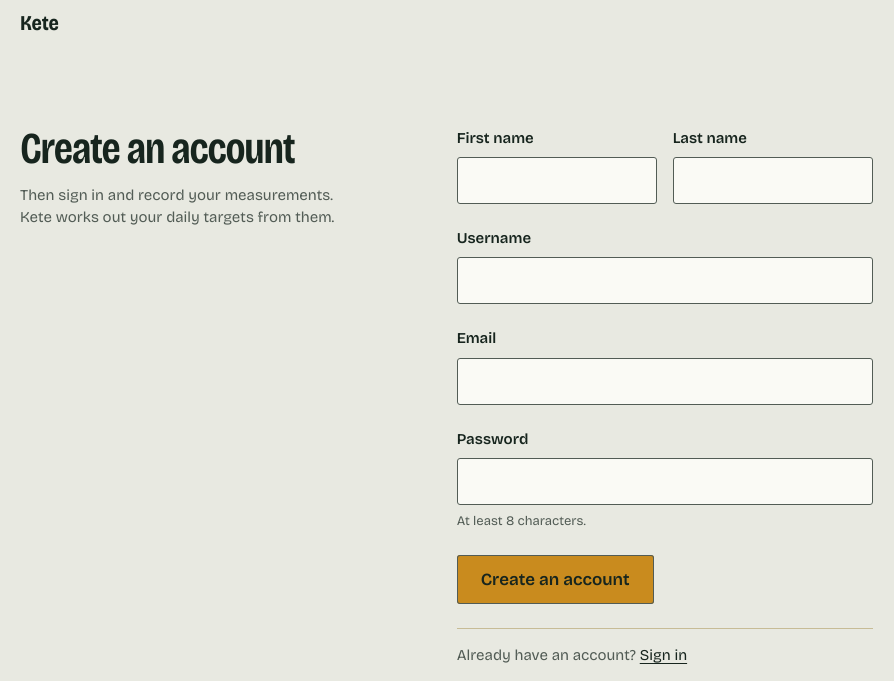
Test case: the sentence a new account lands on › arrives in a status region that was on the page before it
In the field labelled "First name": x=557, y=180 [457,157,657,204], type "Aroha"
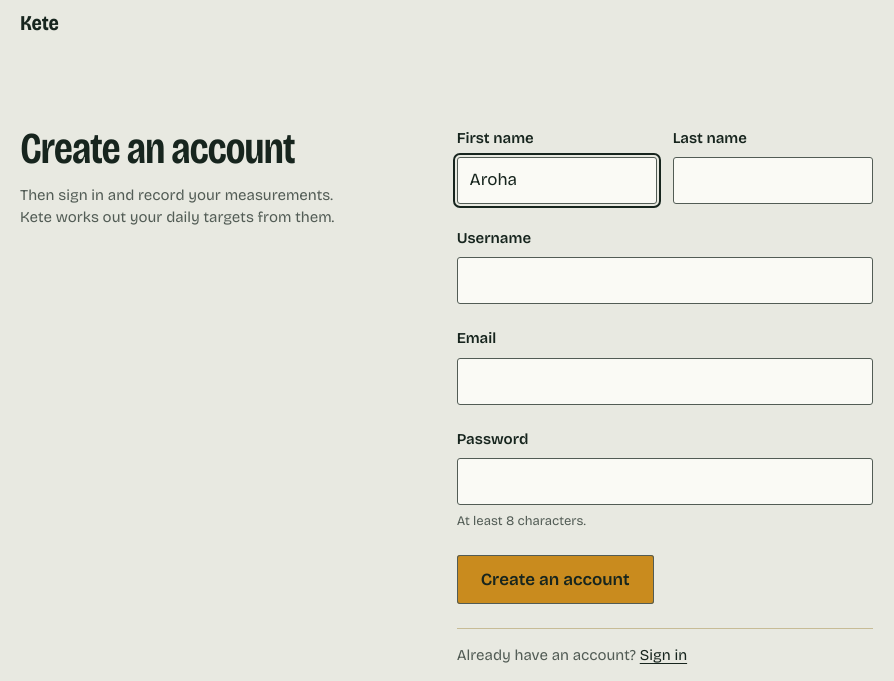
In the field labelled "Last name": x=773, y=180 [673,157,873,204], type "Tane"
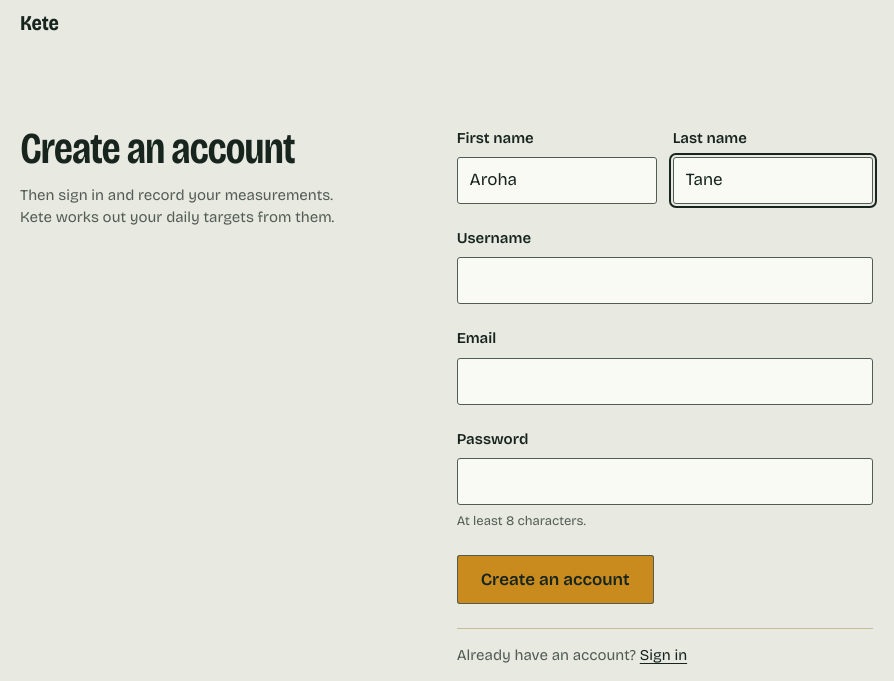
In the field labelled "Username": x=665, y=281 [457,257,873,304], type "aroha"
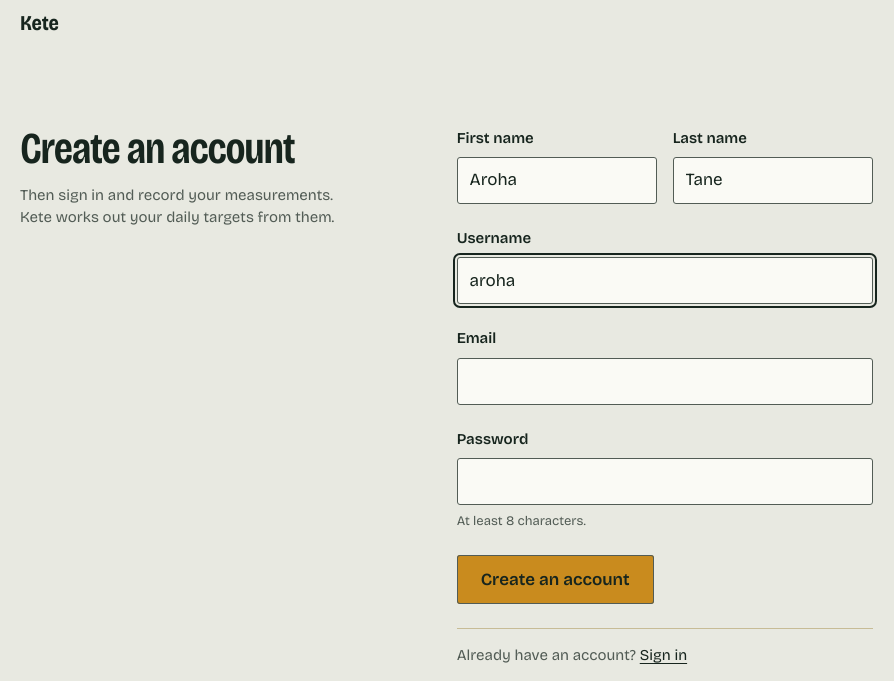
In the field labelled "Email": x=665, y=381 [457,358,873,405], type "aroha@example.test"
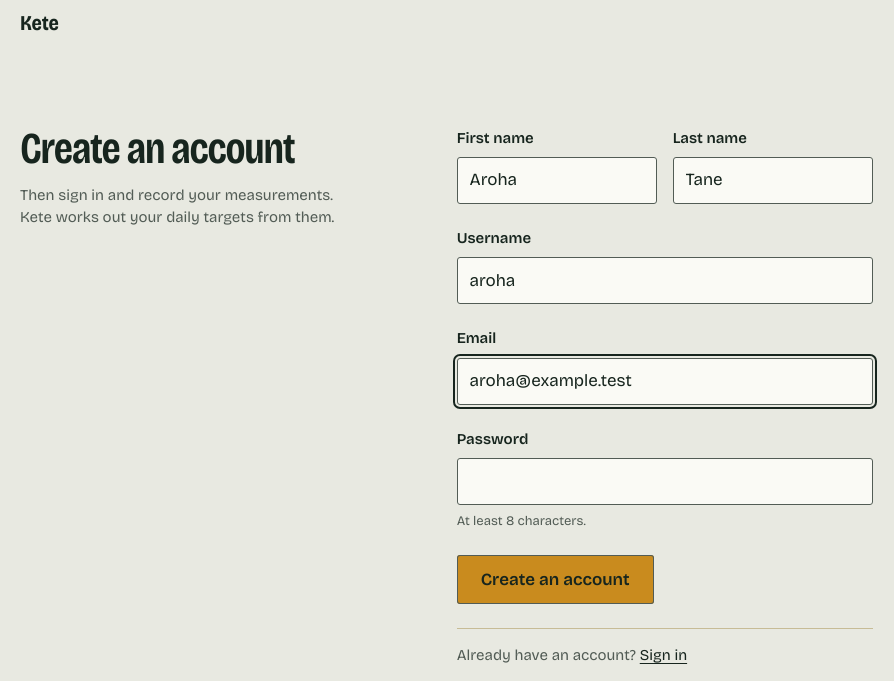
In the password field labelled "Password": x=665, y=482 [457,458,873,505], type "a-password"
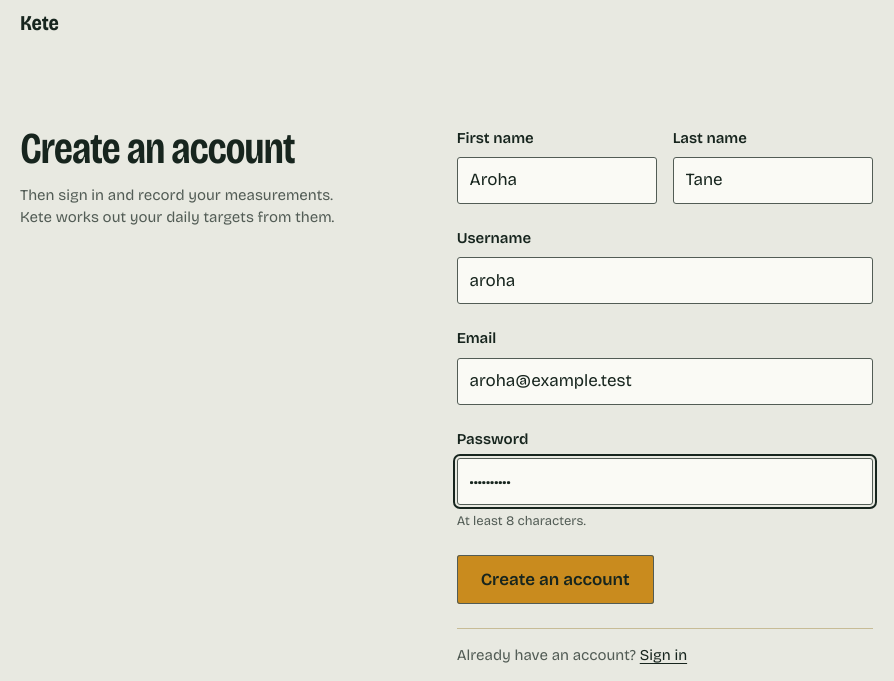
Click the button "Create an account": x=555, y=579 [457,555,654,604]
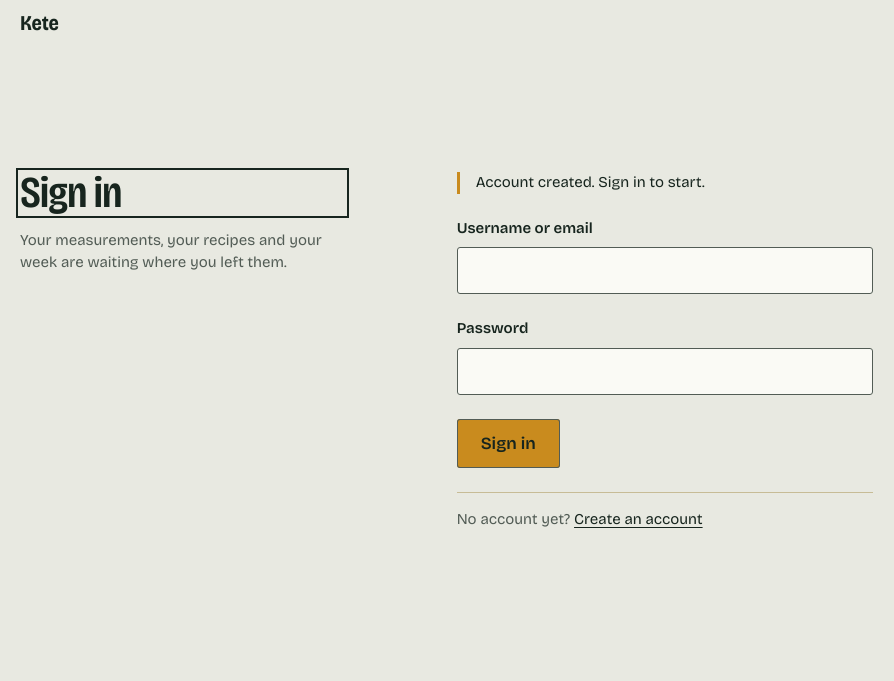
Result: the message reads "Account created. Sign in to start." at [476,173,705,191]
